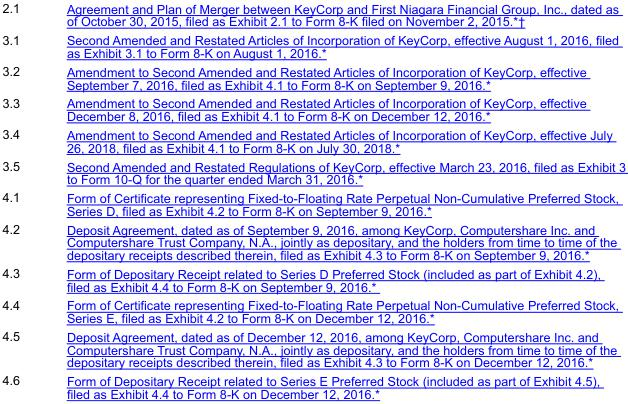table: (1, 0, 625, 400)
table column: (42, 0, 625, 400), (1, 0, 42, 400)
table row: (1, 326, 625, 371), (1, 219, 625, 263), (1, 61, 625, 93), (1, 124, 625, 156), (1, 187, 625, 219), (1, 263, 625, 295), (1, 30, 625, 61), (1, 93, 625, 124), (1, 156, 625, 187), (1, 295, 625, 326), (1, 0, 625, 30), (1, 371, 625, 400)
